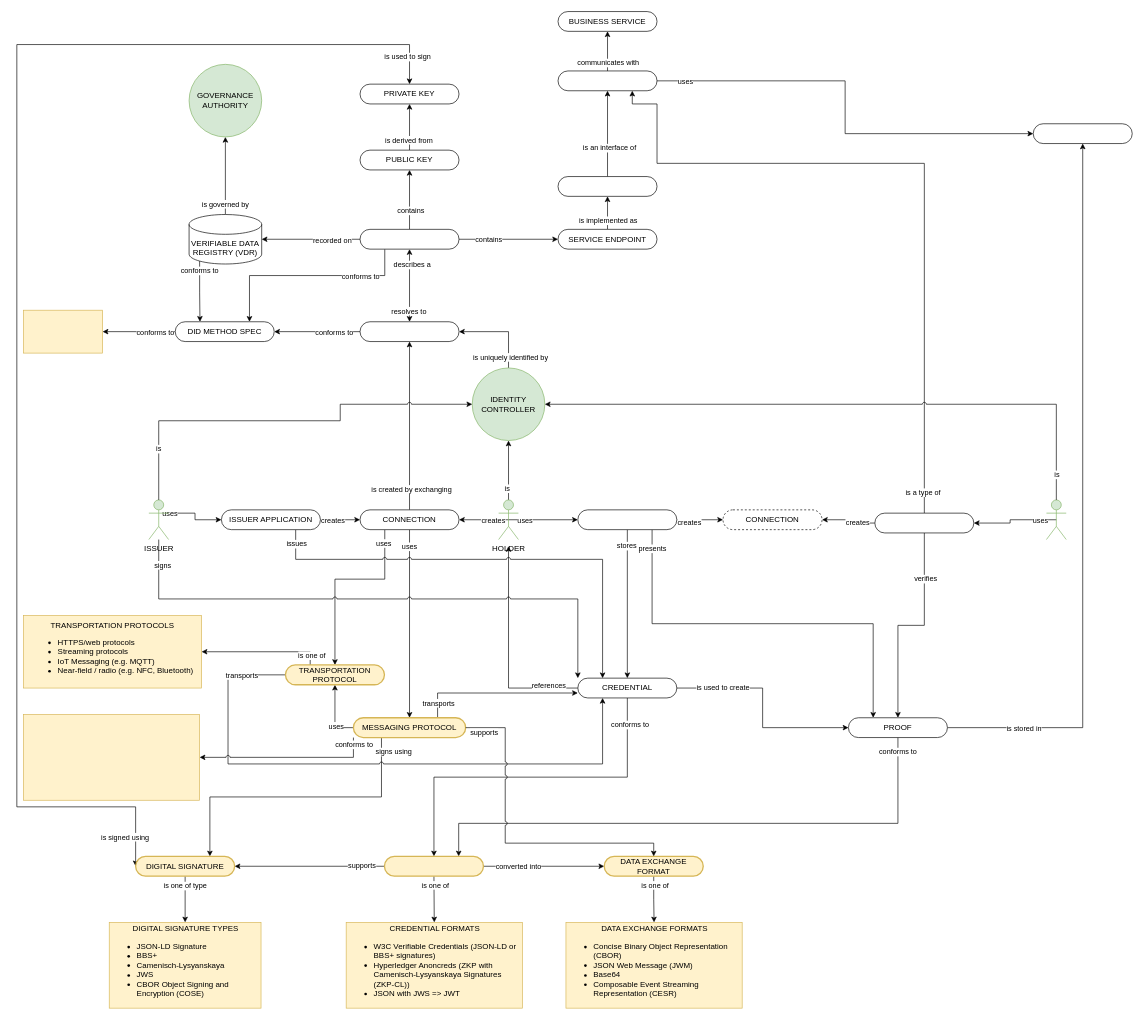
The diagram is 1144 pixels wide and 1020 high, and some of its shapes have lost their labels. Each missing label, with the box of its shape:
AGENT: (557, 70, 657, 91)
API: (557, 176, 657, 196)
CREDENTIAL / PROOF STORAGE: (1033, 123, 1132, 144)
CREDENTIAL FORMAT: (383, 855, 484, 876)
DECENTRALIZED IDENTIFIER (DID): (359, 321, 459, 342)
DID DOCUMENT: (359, 229, 459, 249)
MESSAGING SPECIFICATIONS DIDCOMM SIOP/2 OIDC4VC Issuance OIDC4VP: (23, 714, 200, 800)
MOBILE WALLET: (577, 509, 677, 530)
VERIFICATION APPLICATION: (874, 512, 974, 533)
VERIFIER: (1046, 499, 1066, 540)
W3C DID-CORE STANDARD: (23, 310, 103, 353)
